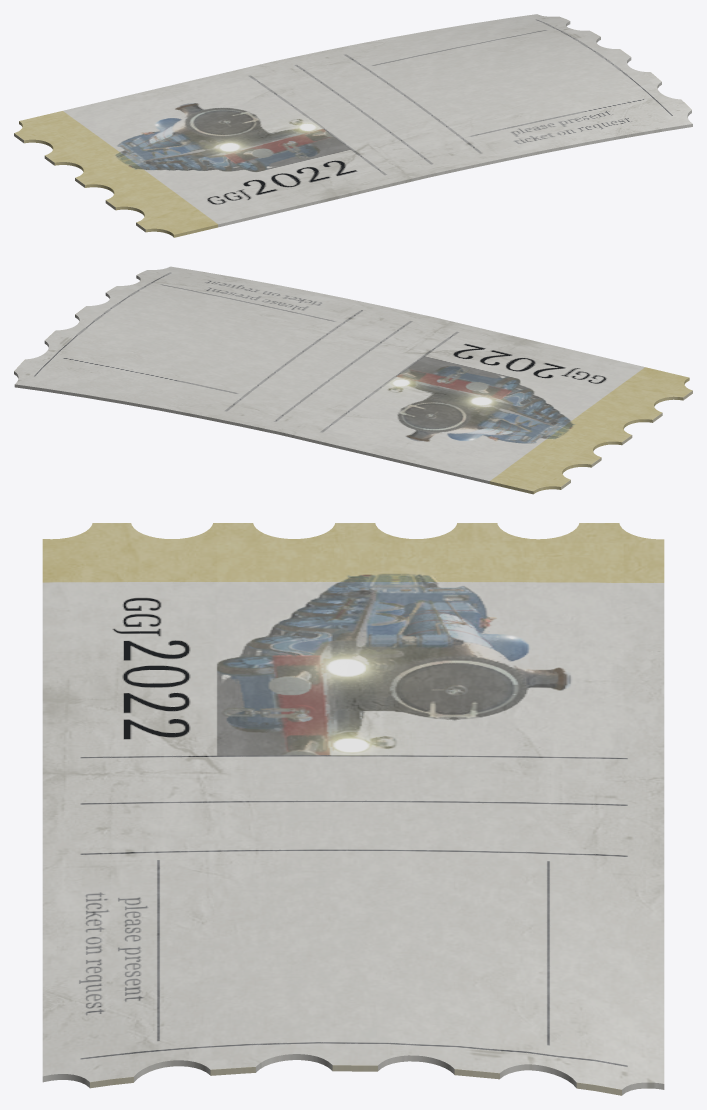
File: Ticket.FBX
The picture shows the model from 3 angles, top to bottom: view 1: azimuth 30°, elevation 25°; view 2: azimuth 150°, elevation 25°; view 3: azimuth 270°, elevation 25°; orthographic projection. The views are drawn at different scales.
Visible parts, largest first — view 1: Box001; view 2: Box001; view 3: Box001.
Boxes of the visible parts, bbox=[...] form: Box001: bbox=[14, 14, 692, 237]; Box001: bbox=[14, 266, 692, 494]; Box001: bbox=[42, 523, 664, 1095].
Bounding box in the file's own units: 134 × 5.31 × 66.11.
1 material, 1 textured.
